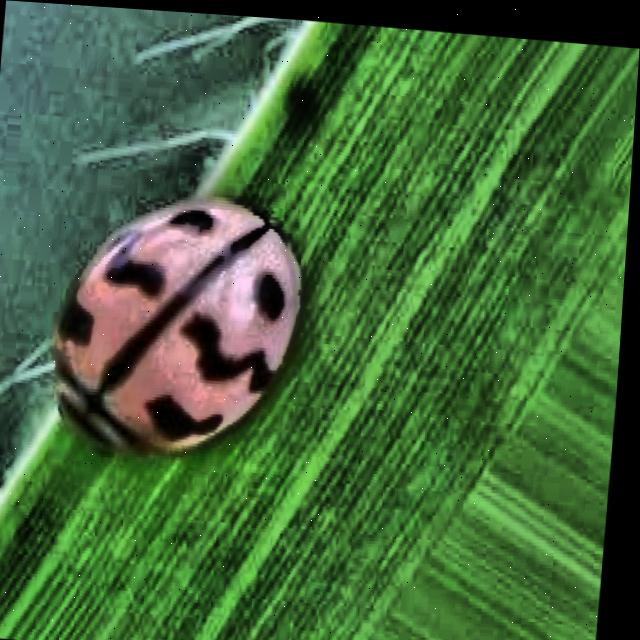Asian-Lady-beetle: (11, 84, 329, 590)
